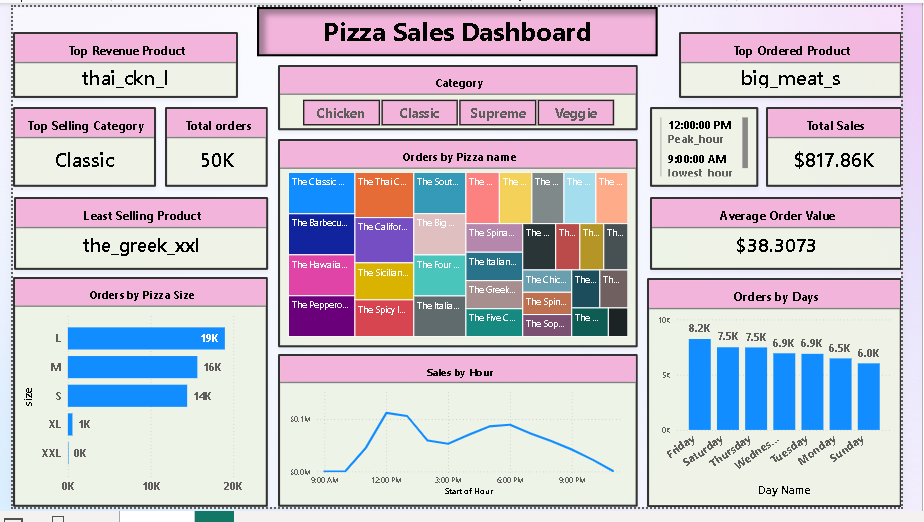

Layout of this report page (visuals, bound fields, positions):
{"tool":"powerbi","page":{"name":"Page 1","canvas":[1280,720],"ordinal":0},"visuals":[{"type":"card","title":"Total Sales","fields":{"Values":["order_details.Total_sales"]},"box":[1084.3,144,195.8,115.2],"z":0},{"type":"card","title":"Total orders","fields":{"Values":["order_details.Total_ordered"]},"box":[218.9,144,148.3,115.2],"z":1000},{"type":"barChart","title":"Orders by Pizza Size","fields":{"Category":["order_details.size"],"Y":["Sum(order_details.quantity)"]},"box":[0,388.8,367.2,331.2],"z":2000},{"type":"columnChart","title":"Orders by Days","fields":{"Category":["orders.Day Name"],"Y":["order_details.Total_ordered"]},"box":[913,390.2,367.2,329.8],"z":3000},{"type":"lineChart","title":"Sales by Hour","fields":{"Category":["orders.Start of Hour"],"Y":["Sum(order_details.Sales)"]},"box":[381.6,499.7,518.4,220.3],"z":4000},{"type":"slicer","title":"Category ","fields":{"Values":["pizza_types.category"]},"box":[381.6,83.5,518.4,93.6],"z":5000},{"type":"card","title":"Top Ordered Product","fields":{"Values":["order_details.Most_ordered_product"]},"box":[959,36,321.1,95],"z":6000},{"type":"card","title":"Top Revenue Product","fields":{"Values":["order_details.Most_sales_product"]},"box":[0,36,324,95],"z":7000},{"type":"multiRowCard","fields":{"Values":["orders.Peak_hour","orders.lowest_hour"]},"box":[917.3,144,155.5,115.2],"z":8000},{"type":"card","title":"Top Selling  Category","fields":{"Values":["order_details.Hot_selling_poduct"]},"box":[0,144,205.9,115.2],"z":9000},{"type":"treemap","title":"Orders by Pizza name","fields":{"Group":["pizza_types.name"],"Values":["Sum(order_details.quantity)"]},"box":[381.6,190.1,518.4,299.5],"z":10000},{"type":"textbox","box":[351.4,0,577.4,70.6],"z":11000},{"type":"card","title":"Least Selling Product","fields":{"Values":["order_details.least_sales_product"]},"box":[1.4,273.6,365.8,105.1],"z":12000},{"type":"card","title":"Average Order Value","fields":{"Values":["order_details.Aov"]},"box":[917.3,273.6,362.9,105.1],"z":13000}]}

Visuals, with their boxes in screenshot pixels (x1, y1, x2, y2), scaled from the page's 1280x720 canvas onto the 924x522 screenshot:
"Total Sales" card: x1=783, y1=104, x2=923, y2=188
"Total orders" card: x1=158, y1=104, x2=265, y2=188
"Orders by Pizza Size" barChart: x1=0, y1=282, x2=265, y2=521
"Orders by Days" columnChart: x1=659, y1=283, x2=923, y2=521
"Sales by Hour" lineChart: x1=275, y1=362, x2=650, y2=521
"Category " slicer: x1=275, y1=61, x2=650, y2=128
"Top Ordered Product" card: x1=692, y1=26, x2=923, y2=95
"Top Revenue Product" card: x1=0, y1=26, x2=234, y2=95
multiRowCard - orders.Peak_hour x orders.lowest_hour: x1=662, y1=104, x2=774, y2=188
"Top Selling  Category" card: x1=0, y1=104, x2=149, y2=188
"Orders by Pizza name" treemap: x1=275, y1=138, x2=650, y2=355
textbox: x1=254, y1=0, x2=670, y2=51
"Least Selling Product" card: x1=1, y1=198, x2=265, y2=275
"Average Order Value" card: x1=662, y1=198, x2=923, y2=275
